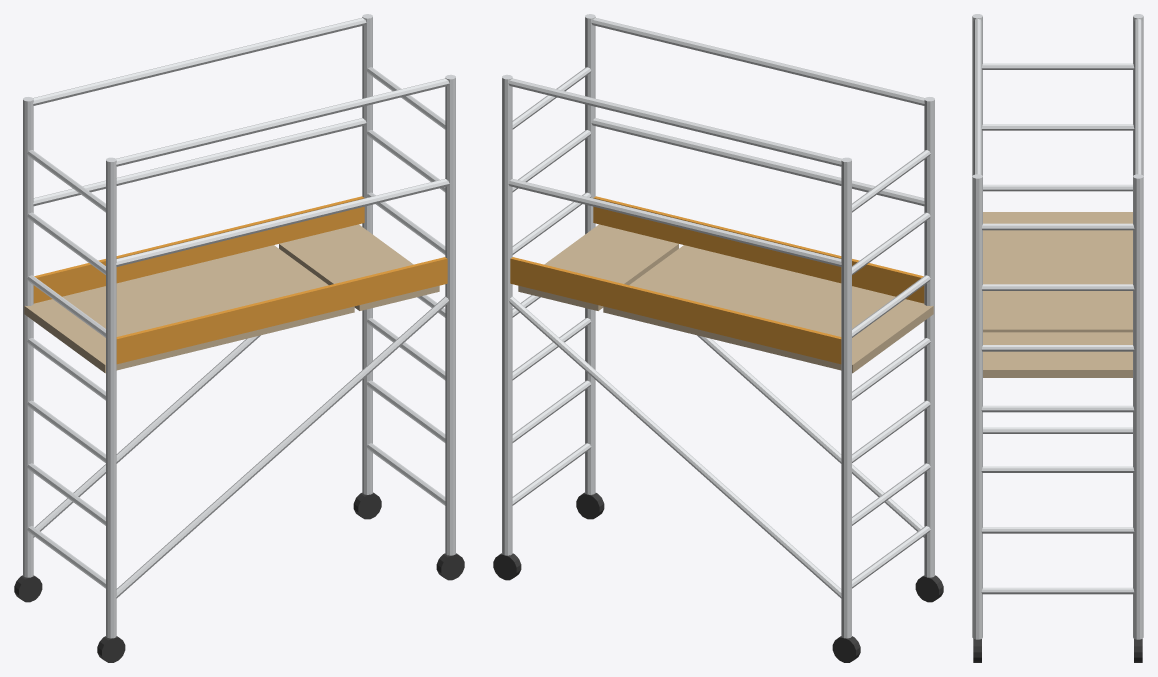
Rendered from scaffold_tower.glb.
3 renders of one model, left to right at view 1: azimuth 30°, elevation 25°; view 2: azimuth 150°, elevation 25°; view 3: azimuth 270°, elevation 25°, orthographic. The views are drawn at different scales.
Parts seen in each view (by area): view 1: scaffold_tower; view 2: scaffold_tower; view 3: scaffold_tower.
Boxes of the visible parts, x1,y1,x2,y2 form: scaffold_tower: (14, 14, 464, 662); scaffold_tower: (493, 14, 943, 662); scaffold_tower: (972, 14, 1143, 662).
Size of the model in its own units: 1.82 by 2.4 by 0.768.
